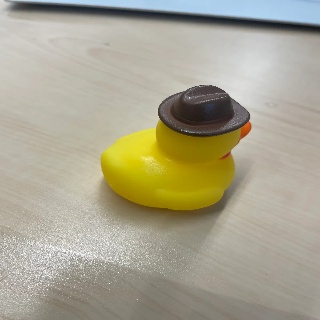duck_specialty: (99, 74, 250, 211)
